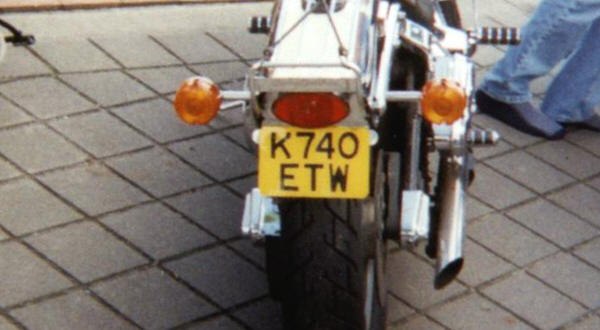license_plate: (258, 125, 365, 198)
